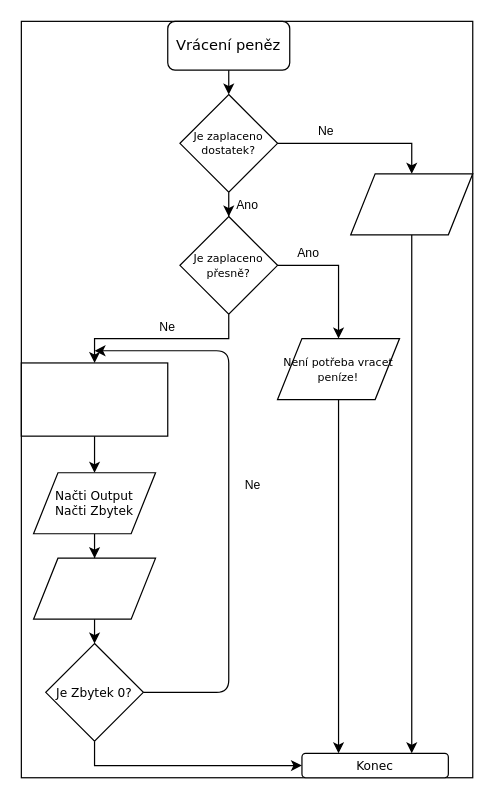
Image size: 494x799. Some labels were removed from this diagram. Here are the shapes that lost their labels. From the top down, the centre of each, then its label:
At pixel 411 204: "Málo peněz!".
At pixel 94 399: "Vrácení nejvyšší mince v možném nejvyšším počtu".
At pixel 94 588: "Vypiš Output".
